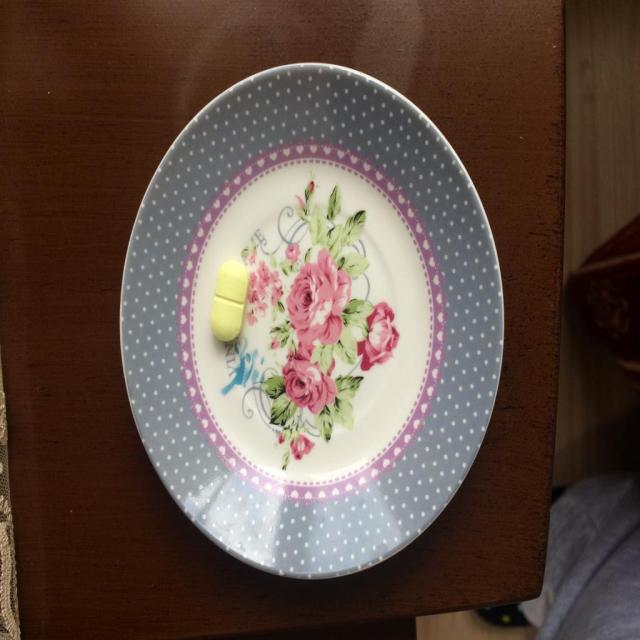pills: (203, 245, 256, 351)
